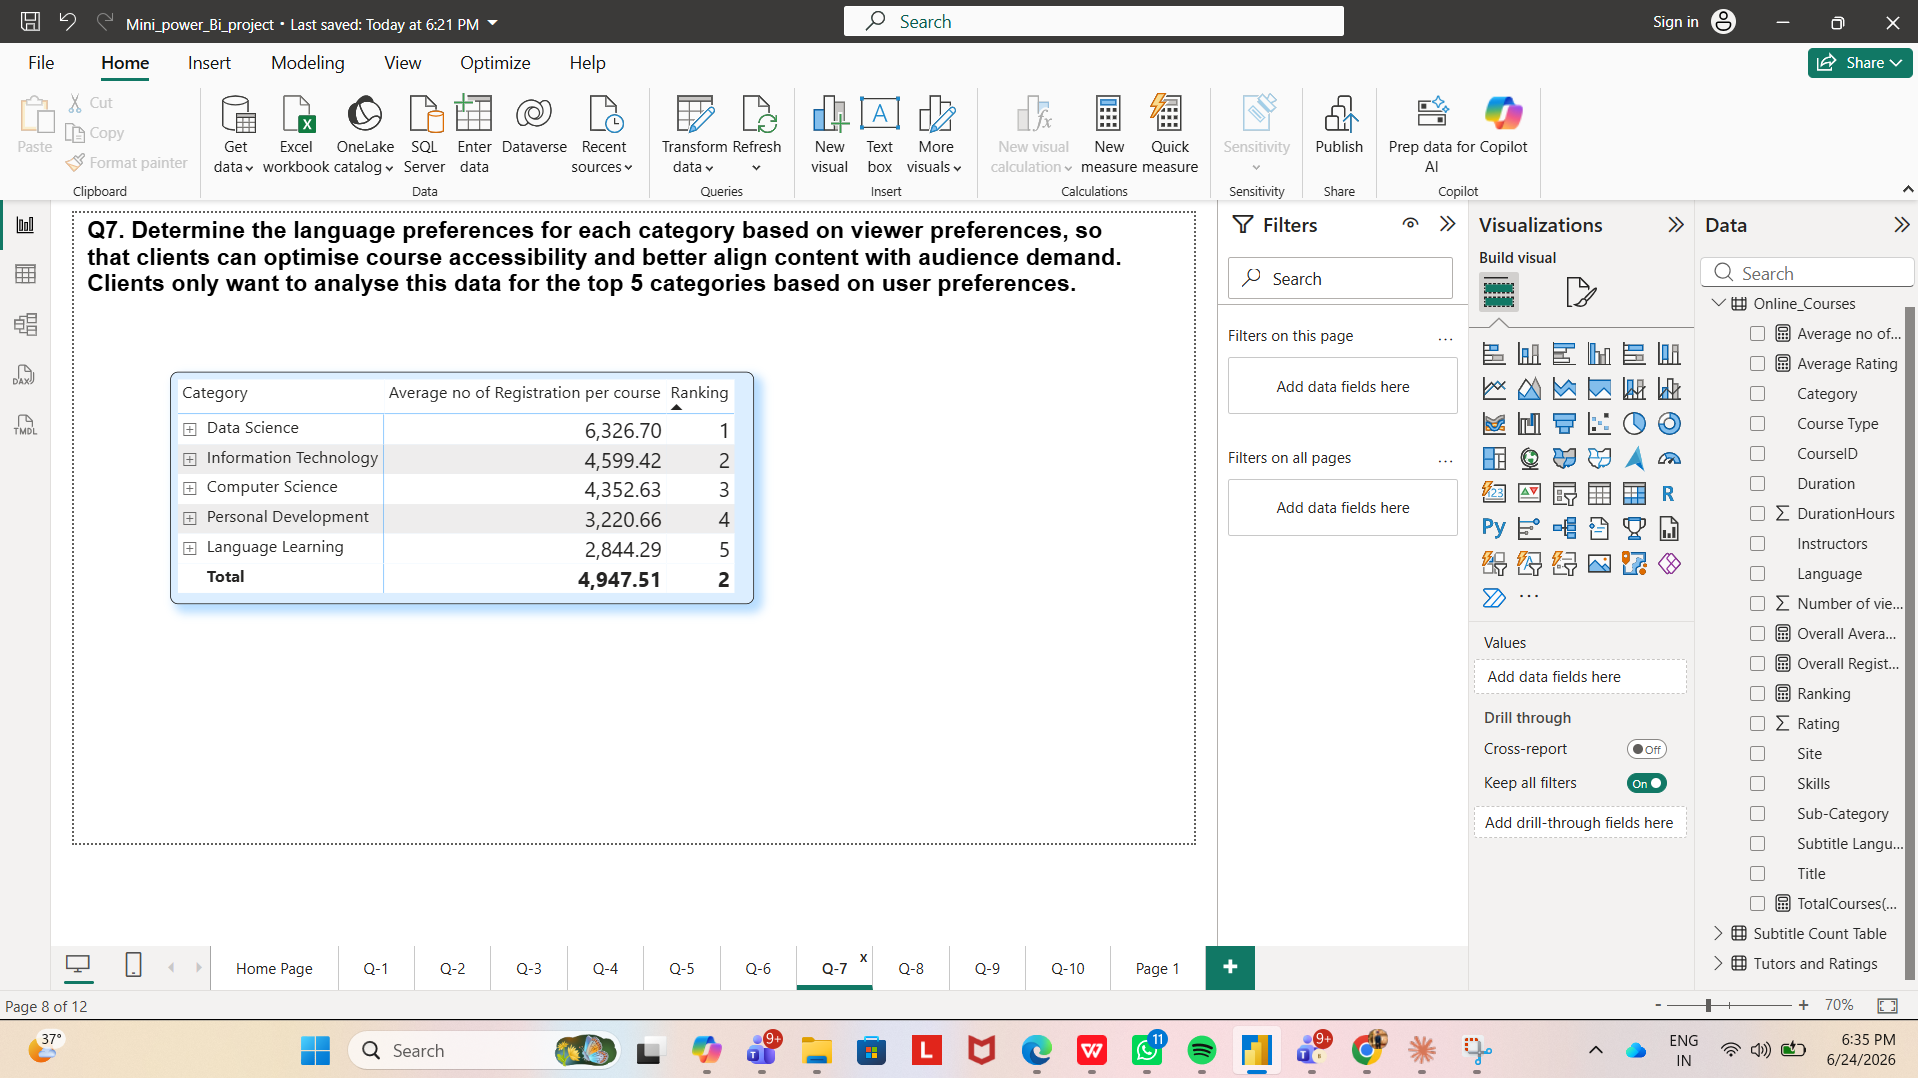

Layout of this report page (visuals, bound fields, positions):
{"tool":"powerbi","page":{"name":"Q-7","canvas":[1280,720],"ordinal":7},"visuals":[{"type":"textbox","box":[9.9,0,1205.5,105.9],"z":0},{"type":"pivotTable","fields":{"Rows":["Online_Courses.Category","Online_Courses.Language"],"Values":["Online_Courses.Average no of Registration per course","Online_Courses.Ranking"]},"box":[110,181.4,667.1,265.7],"z":1000}]}

Visuals, with their boxes on the page's 1280x720 design canvas (x1, y1, x2, y2). These are canvas units, not pixel positions in the 1918x1078 screenshot, which may show the page scaled, cropped or inside an application window:
textbox: rect(10, 0, 1215, 106)
pivotTable - Online_Courses.Category x Online_Courses.Language: rect(110, 181, 777, 447)
